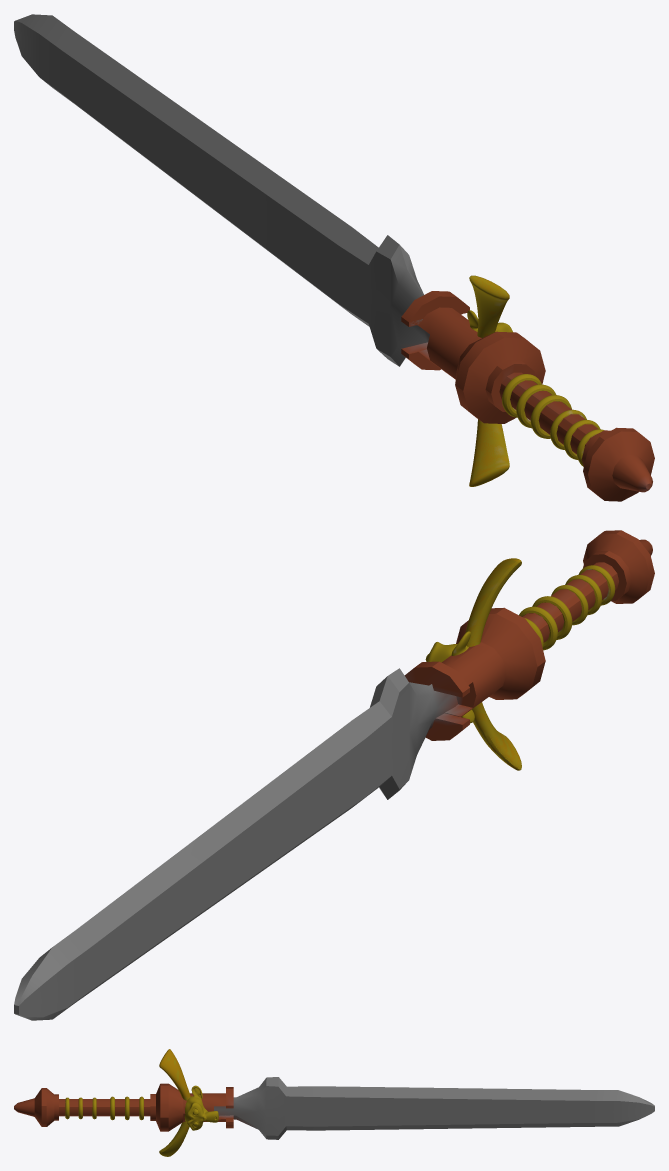
File: ESPADA CABALLERO.fbx
3 renders of one model, top to bottom at view 1: azimuth 30°, elevation 25°; view 2: azimuth 150°, elevation 25°; view 3: azimuth 270°, elevation 25°, orthographic. The views are drawn at different scales.
Visible parts, largest first — view 1: Torus.006, Cube.001; view 2: Torus.006, Cube.001; view 3: Torus.006, Cube.001.
Boxes of the visible parts, box(x1,y1,x2,y2) form: Torus.006: box(14, 14, 654, 501); Cube.001: box(469, 276, 509, 486); Torus.006: box(14, 530, 654, 1020); Cube.001: box(466, 558, 521, 770); Torus.006: box(14, 1050, 654, 1156); Cube.001: box(159, 1049, 190, 1155).
Size of the model in its own units: 0.6405 by 1.55 by 8.4.
